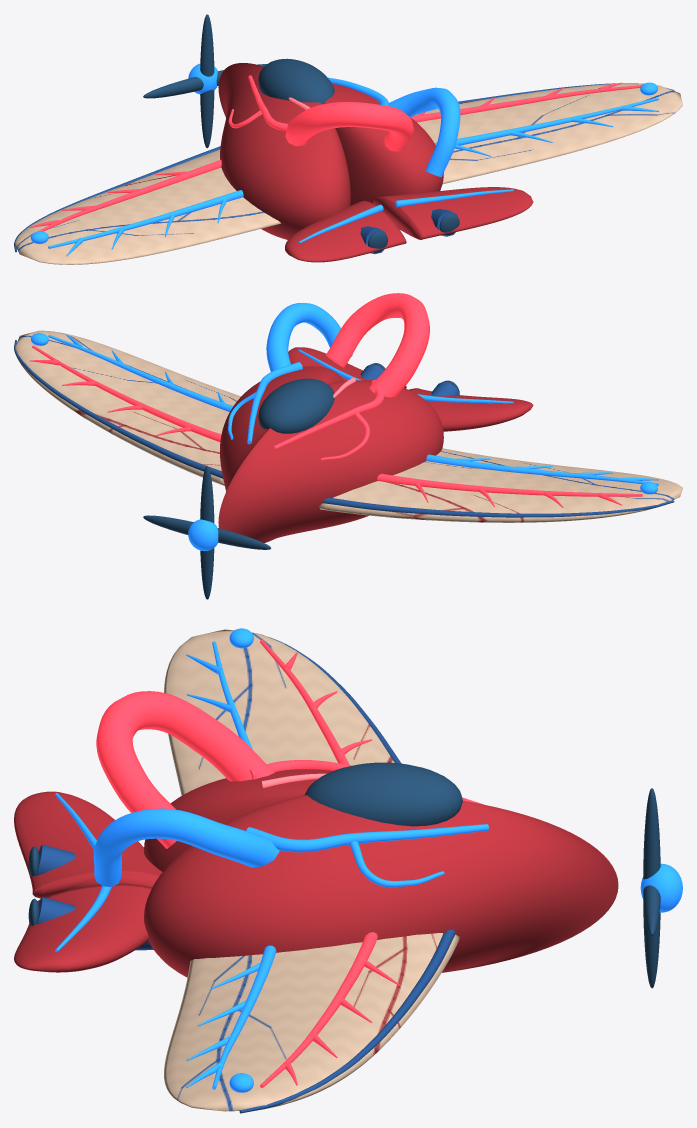
The model's file is cardiac-aorta.glb.
3 renders of one model, top to bottom at view 1: azimuth 30°, elevation 25°; view 2: azimuth 150°, elevation 25°; view 3: azimuth 270°, elevation 25°, orthographic. The views are drawn at different scales.
Visible parts, largest first — view 1: VentricleCore, Left membrane, Right membrane, Right tail membrane, Left tail membrane, Aortic arch, Atrial canopy, Venous return, Right venous network, Left arterial network, Left venous network, Valve propeller (+8 smaller); view 2: VentricleCore, Right membrane, Left membrane, Aortic arch, Atrial canopy, Left tail membrane, Venous return, Left arterial network, Left rounded leading edge, Right arterial network, Left venous network, Right rounded leading edge (+7 smaller); view 3: VentricleCore, Right membrane, Left membrane, Aortic arch, Right tail membrane, Left tail membrane, Atrial canopy, Venous return, Coronary vein, Right arterial network, Right venous network, Right rounded leading edge (+8 smaller).
Part boxes in pixels (left/top/right/bottom): VentricleCore: left=218, top=63, right=443, bottom=239; Left membrane: left=15, top=149, right=281, bottom=264; Right membrane: left=415, top=83, right=682, bottom=183; Right tail membrane: left=373, top=187, right=533, bottom=239; Left tail membrane: left=285, top=201, right=406, bottom=262; Aortic arch: left=285, top=102, right=413, bottom=151; Atrial canopy: left=258, top=58, right=334, bottom=104; Venous return: left=388, top=87, right=460, bottom=177; Right venous network: left=434, top=97, right=658, bottom=156; Left arterial network: left=29, top=159, right=221, bottom=234; Left venous network: left=48, top=190, right=243, bottom=256; Valve propeller: left=200, top=14, right=214, bottom=148; VentricleCore: left=218, top=366, right=443, bottom=546; Right membrane: left=15, top=330, right=240, bottom=485; Left membrane: left=319, top=448, right=682, bottom=522; Aortic arch: left=326, top=293, right=429, bottom=397; Atrial canopy: left=258, top=378, right=334, bottom=433; Left tail membrane: left=409, top=388, right=533, bottom=431; Venous return: left=266, top=303, right=352, bottom=371; Left arterial network: left=377, top=473, right=642, bottom=507; Left rounded leading edge: left=322, top=497, right=674, bottom=517; Right arterial network: left=29, top=345, right=221, bottom=441; Left venous network: left=426, top=454, right=658, bottom=485; Right rounded leading edge: left=14, top=340, right=222, bottom=478; VentricleCore: left=144, top=769, right=618, bottom=977; Right membrane: left=164, top=933, right=459, bottom=1111; Left membrane: left=164, top=629, right=394, bottom=795; Aortic arch: left=96, top=691, right=274, bottom=848; Right tail membrane: left=14, top=883, right=151, bottom=972; Left tail membrane: left=14, top=791, right=162, bottom=898; Atrial canopy: left=305, top=762, right=462, bottom=826; Venous return: left=93, top=808, right=279, bottom=886; Coronary vein: left=246, top=824, right=488, bottom=852; Right arterial network: left=260, top=932, right=399, bottom=1087; Right venous network: left=186, top=945, right=276, bottom=1089; Right rounded leading edge: left=239, top=929, right=455, bottom=1113.
Bounding box in the file's own units: 7 × 1.82 × 4.11.
Materials: 7 (1 with a texture image).
